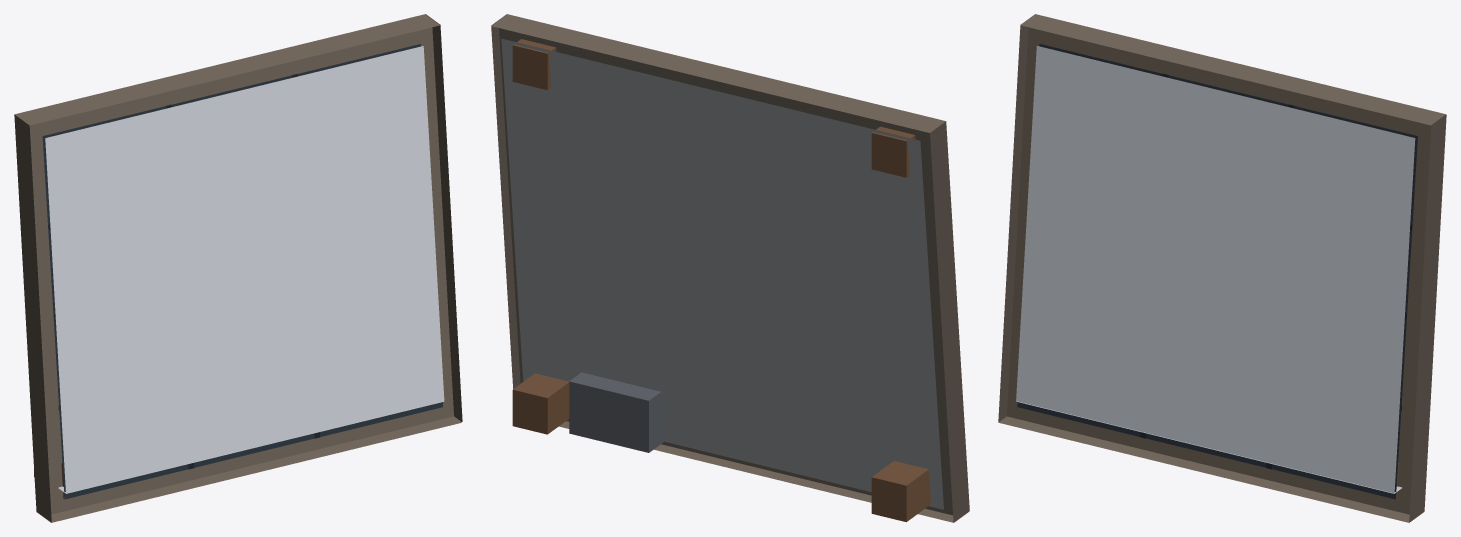
File: array_flat_makeshift_snow_S.obj
The picture shows the model from 3 angles, left to right: view 1: azimuth 30°, elevation 25°; view 2: azimuth 150°, elevation 25°; view 3: azimuth 330°, elevation 25°; orthographic projection. The views are drawn at different scales.
Visible parts, largest first — view 1: array_flat_makeshift_snow_S; view 2: array_flat_makeshift_snow_S; view 3: array_flat_makeshift_snow_S.
Part boxes in pixels (x1,y1,x2,y2): array_flat_makeshift_snow_S: [14, 14, 462, 522]; array_flat_makeshift_snow_S: [491, 14, 969, 522]; array_flat_makeshift_snow_S: [998, 14, 1446, 522].
Bounding box in the file's own units: 0.881 × 0.781 × 0.142.
1 material, 1 textured.
